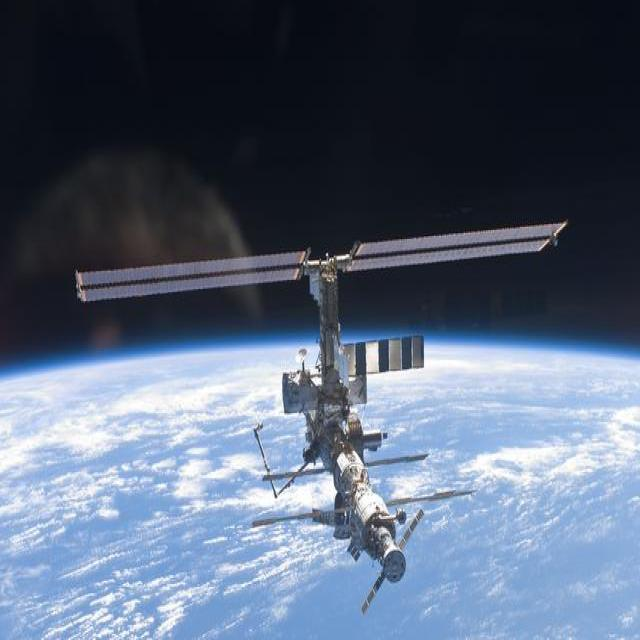satellite: (76, 221, 566, 583)
